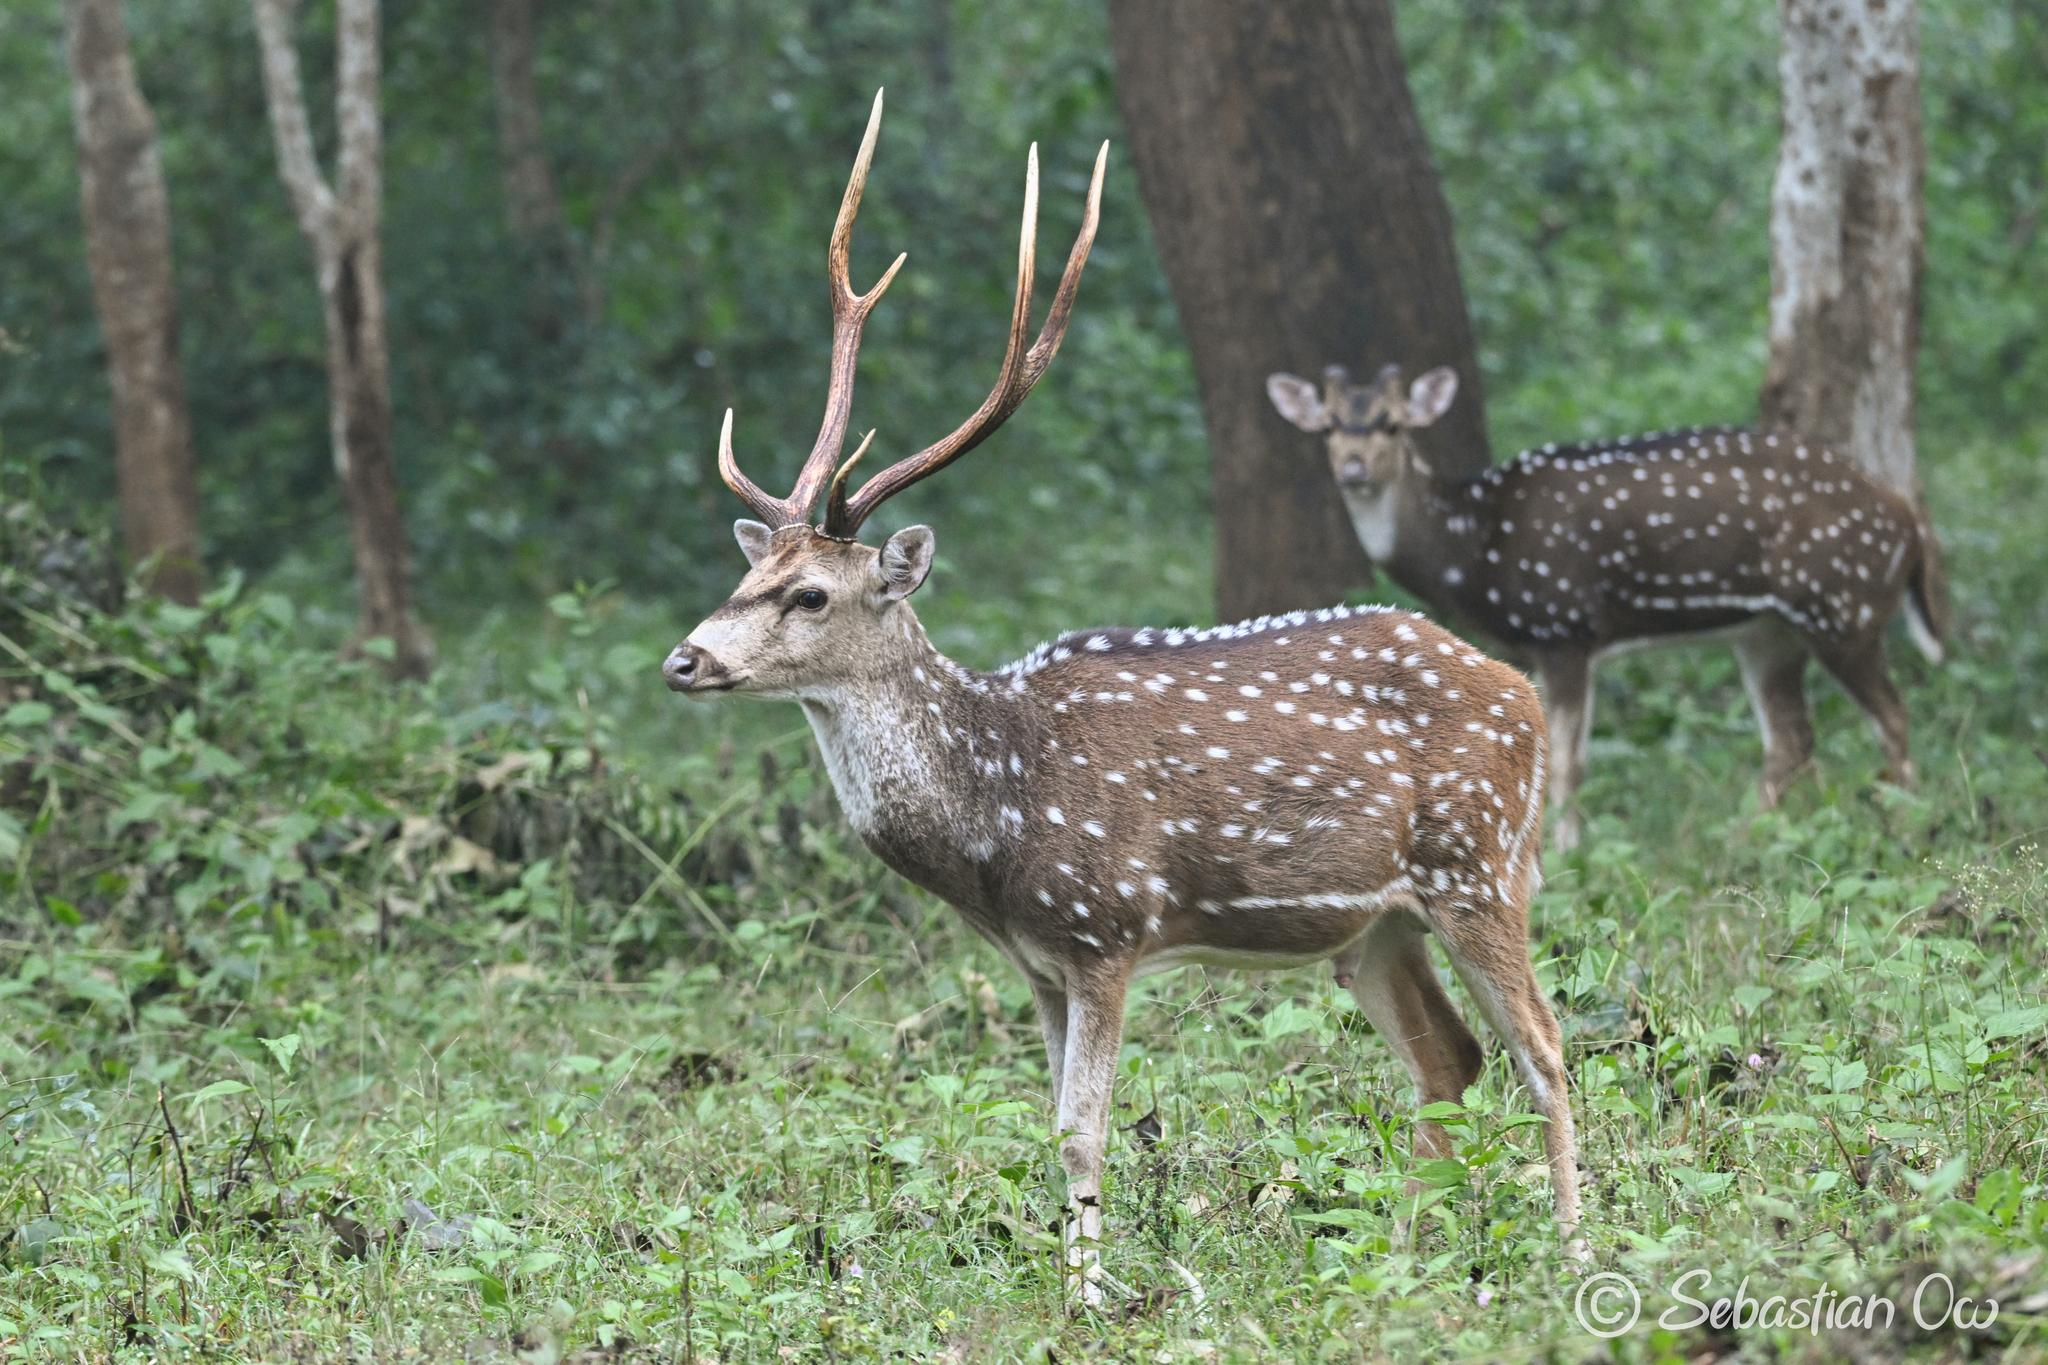Deer: (662, 94, 1577, 1303), (1267, 366, 1943, 804)
